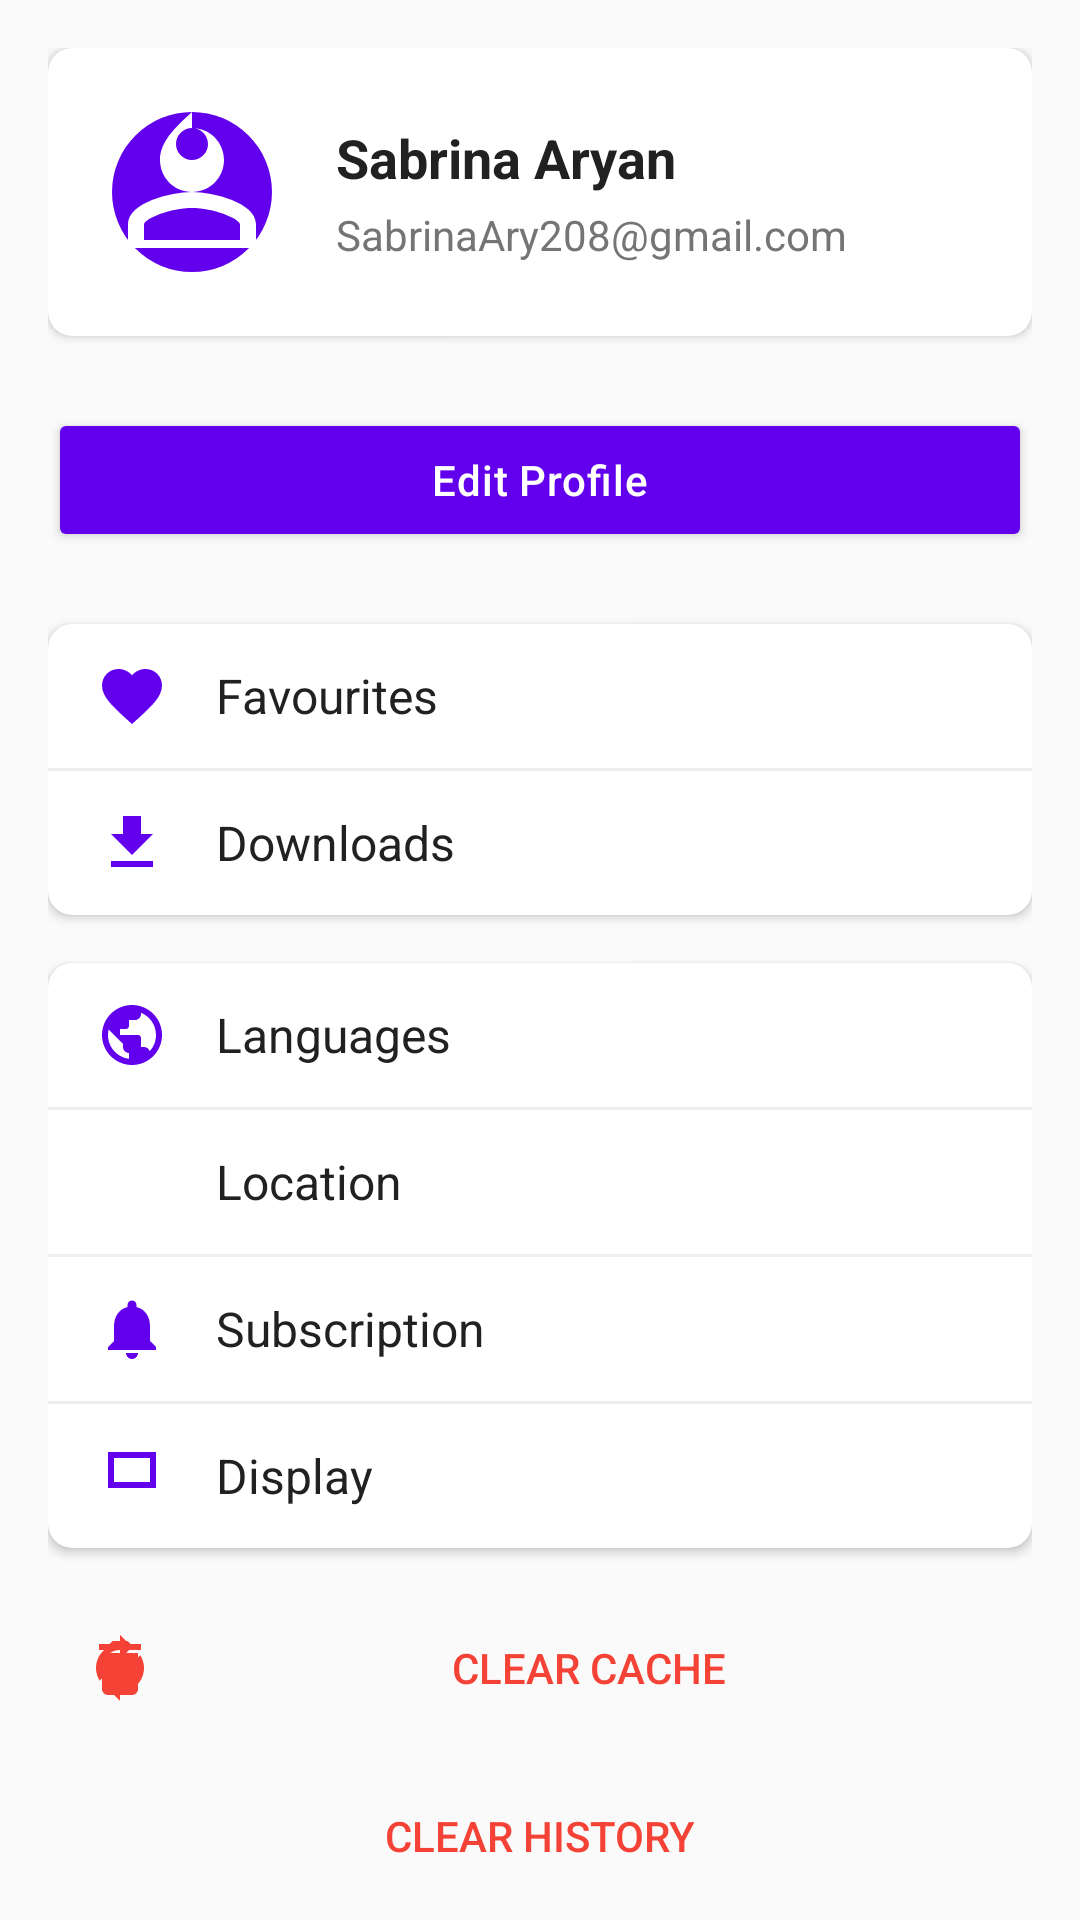

Where icons sit on this 1080 x 1920 app screen, as (x1, y1, x2, y2):
favorite: (102, 669, 162, 724)
